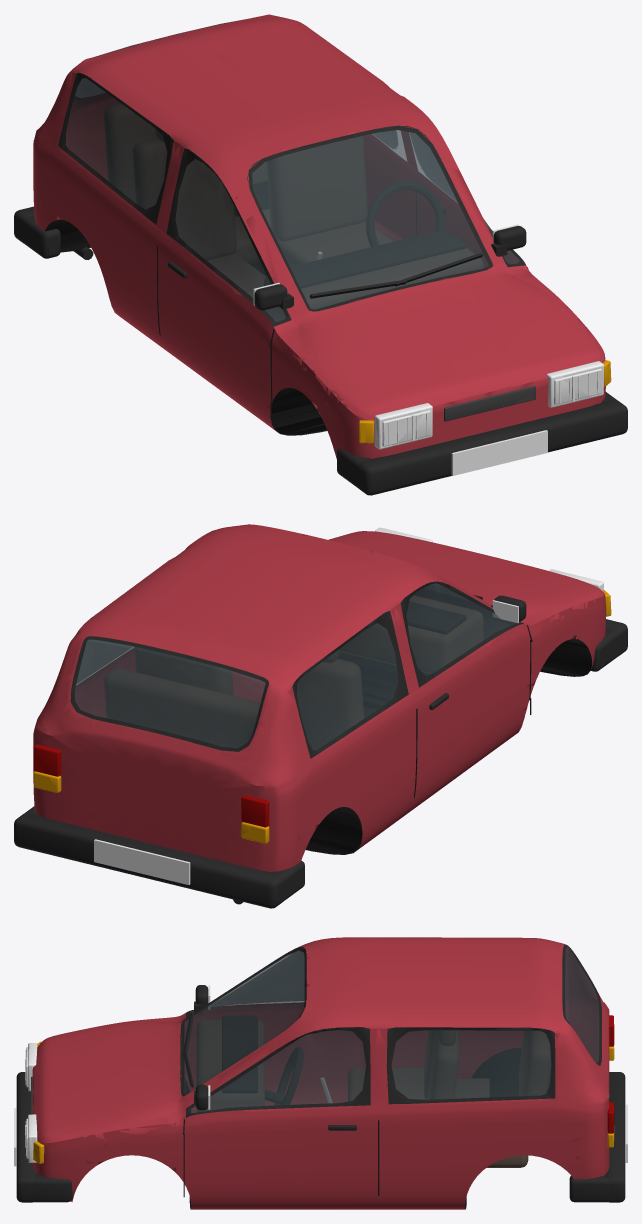
File: oka.glb
The picture shows the model from 3 angles, top to bottom: view 1: azimuth 30°, elevation 25°; view 2: azimuth 150°, elevation 25°; view 3: azimuth 270°, elevation 25°; orthographic projection. The views are drawn at different scales.
Parts seen in each view (by area): view 1: LOD_hi, LOD0; view 2: LOD_hi, LOD0; view 3: LOD_hi, LOD0.
Boxes of the visible parts, <box> form: LOD_hi: <box>14,14,627,495</box>; LOD0: <box>15,14,611,490</box>; LOD_hi: <box>14,524,627,908</box>; LOD0: <box>34,530,626,903</box>; LOD_hi: <box>14,937,627,1209</box>; LOD0: <box>14,937,627,1208</box>.
Size of what is drawn, in the model's own units: 1.47 by 1.2 by 3.41.
